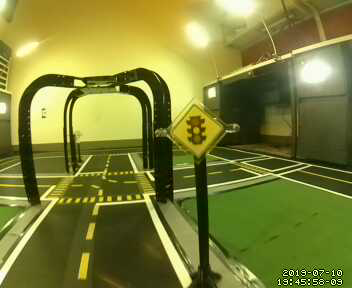Traffic light sign: (171, 102, 225, 160)
